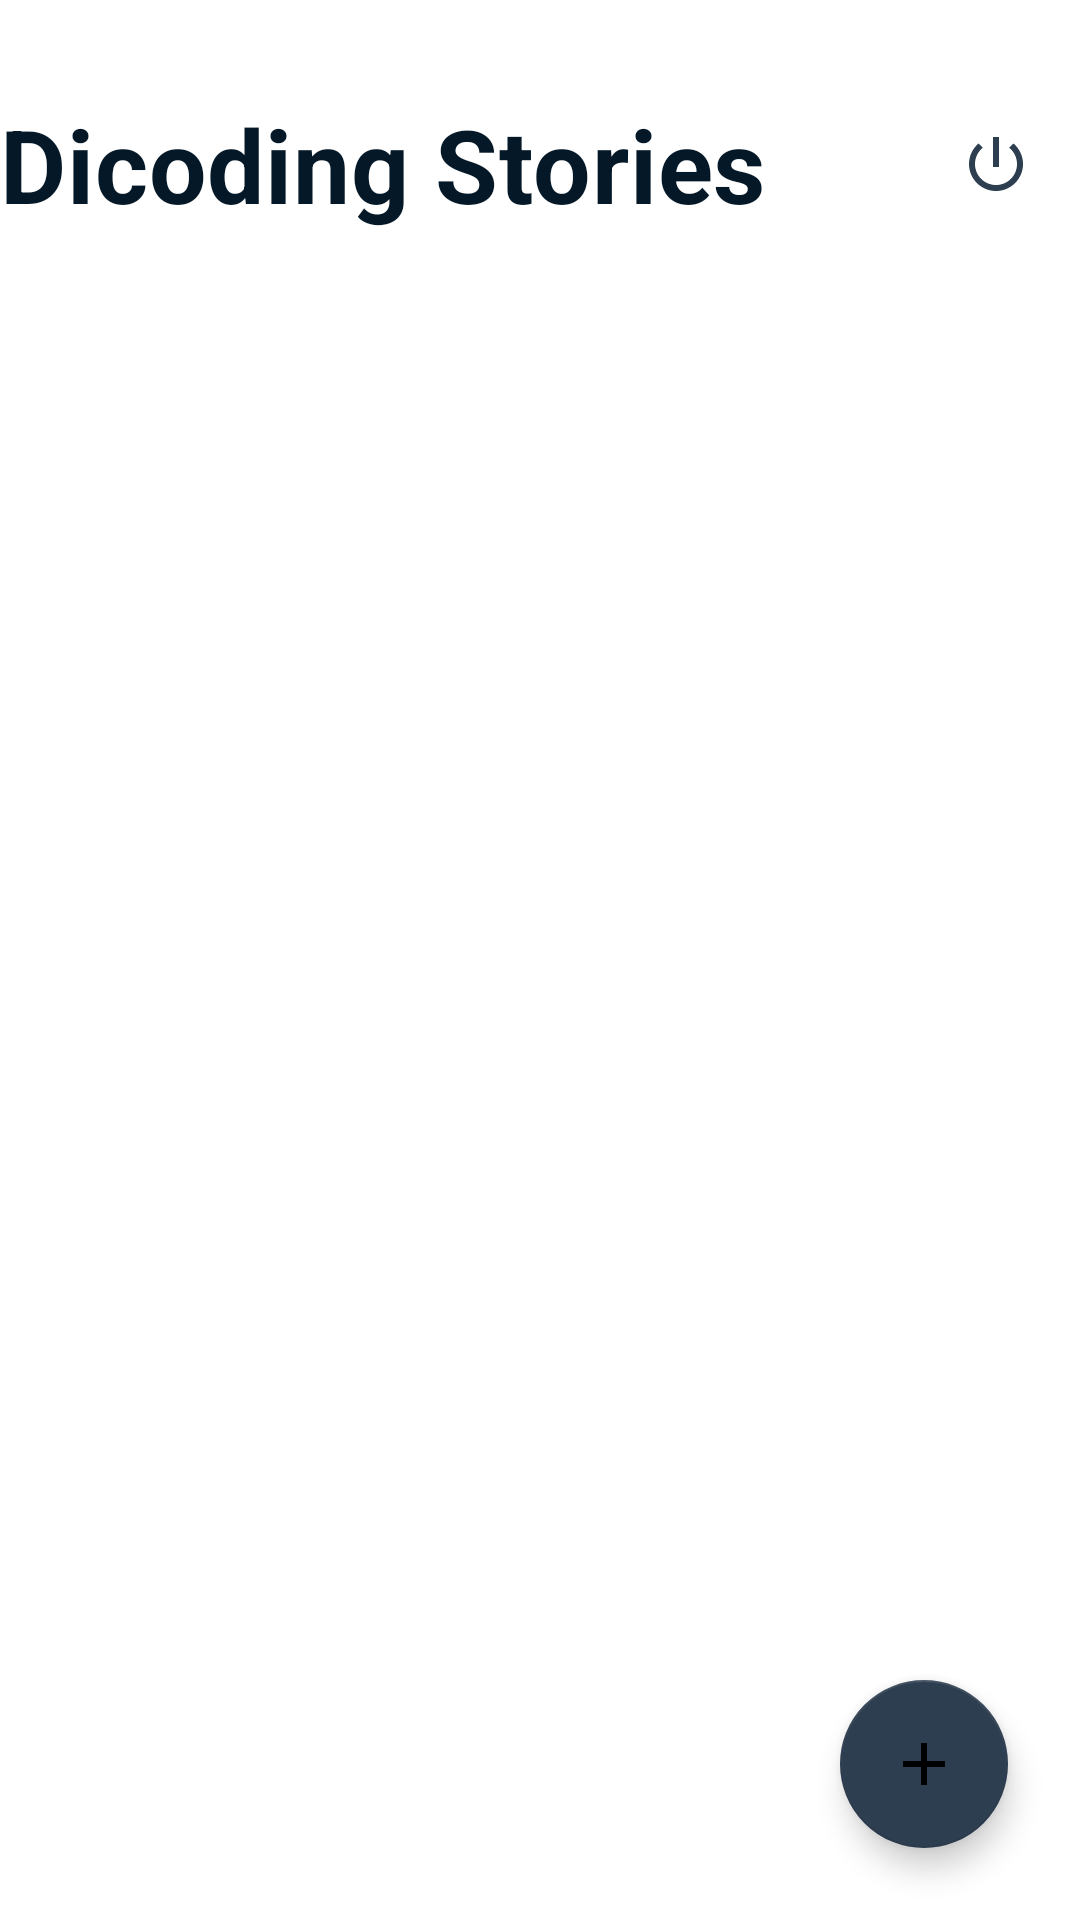

Where to tap for icons on this 1080x1920 app screen, as (x=x, y=y):
add story button: (x=924, y=1764)
power settings: (x=996, y=164)
